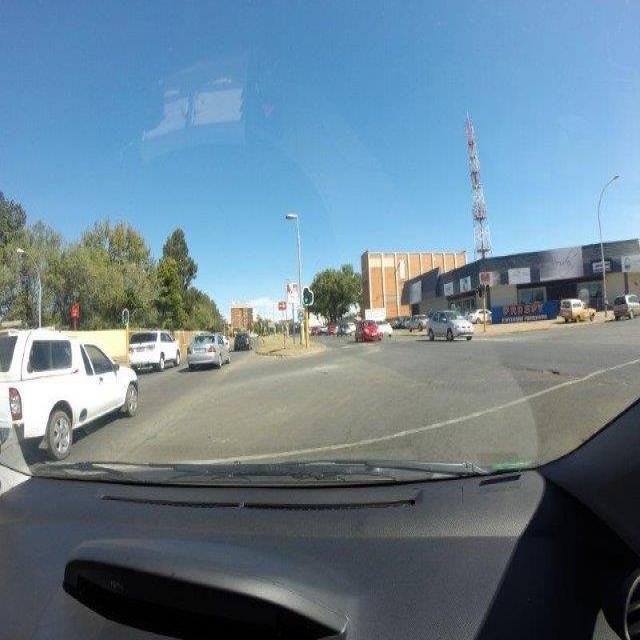jalan retak: (503, 357, 568, 383)
lubang: (543, 367, 563, 377)
